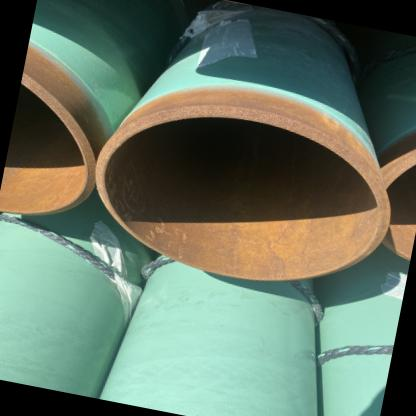clean: (226, 87, 300, 148)
